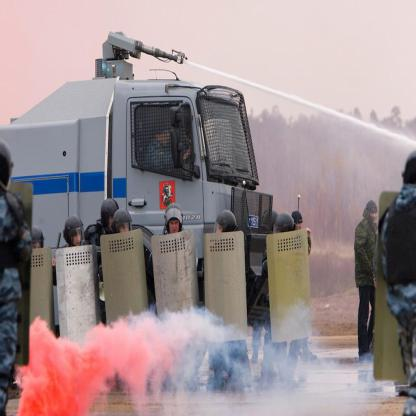face: (118, 222, 132, 240), (217, 220, 227, 245), (169, 217, 181, 237), (159, 129, 170, 150), (31, 239, 43, 258), (72, 231, 82, 250), (108, 214, 117, 234), (369, 210, 378, 224), (297, 220, 303, 233)
